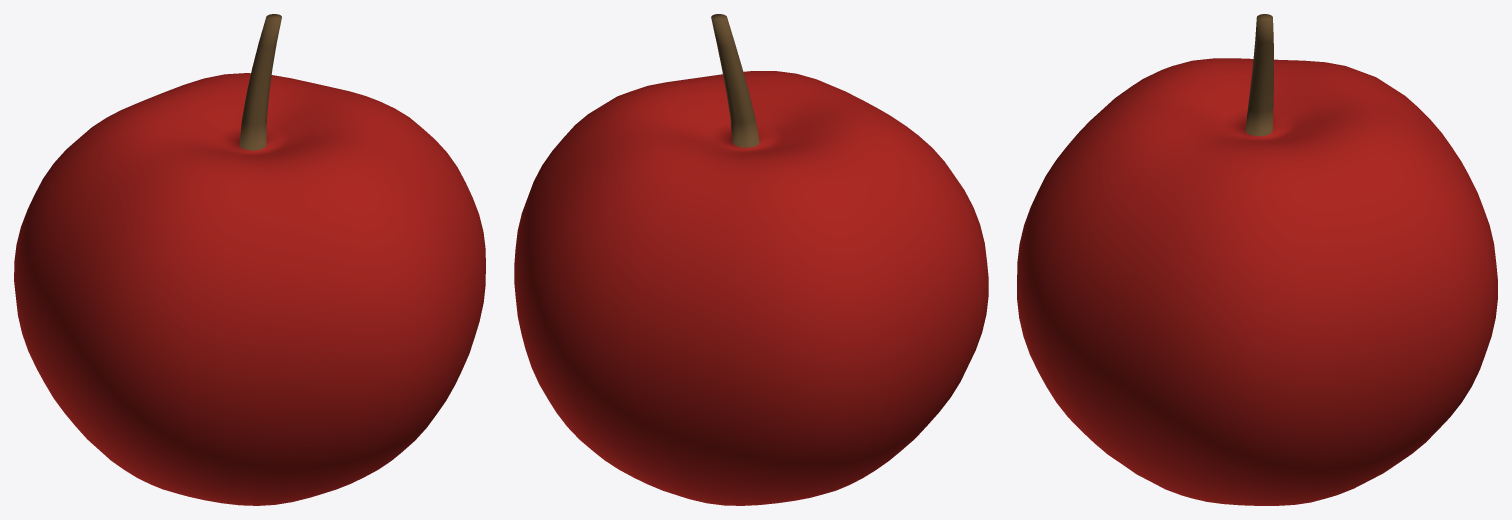
The model's file is A-NEW-20261027-APPLE-001_LOD2_R1.glb.
3 views of the same model, side by side, from view 1: azimuth 30°, elevation 25°; view 2: azimuth 150°, elevation 25°; view 3: azimuth 270°, elevation 25° (orthographic). The views are drawn at different scales.
Visible parts, largest first — view 1: continuous original apple body dimple and stem; view 2: continuous original apple body dimple and stem; view 3: continuous original apple body dimple and stem.
Part boxes in pixels (x1,y1,x2,y2): continuous original apple body dimple and stem: (14, 14, 485, 505); continuous original apple body dimple and stem: (514, 14, 988, 505); continuous original apple body dimple and stem: (1017, 14, 1497, 505).
Bounding box in the file's own units: 0.0861 × 0.0888 × 0.0837.
